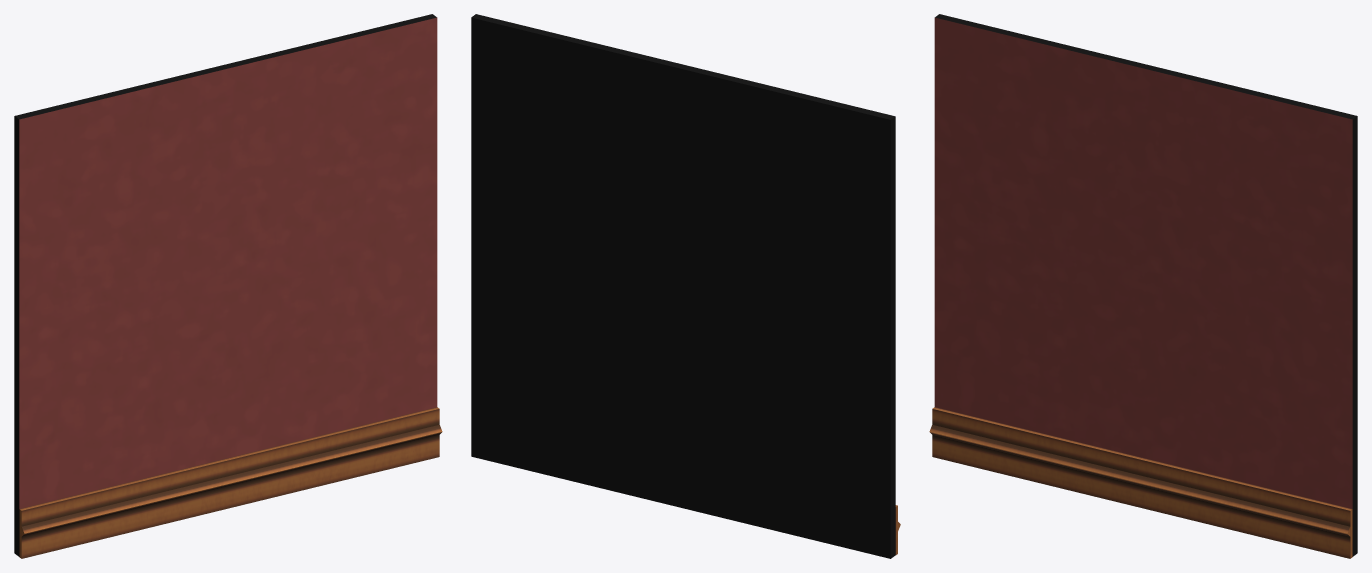
The model's file is Wall_C_04.FBX.
3 views of the same model, side by side, from view 1: azimuth 30°, elevation 25°; view 2: azimuth 150°, elevation 25°; view 3: azimuth 330°, elevation 25° (orthographic).
Parts seen in each view (by area): view 1: Wall_A_01; view 2: Wall_A_01; view 3: Wall_A_01.
Part boxes in pixels (x1,y1,x2,y2): Wall_A_01: (14,14,442,558); Wall_A_01: (471,14,900,558); Wall_A_01: (929,14,1357,558).
Bounding box in the file's own units: 500 × 500 × 20.82.
